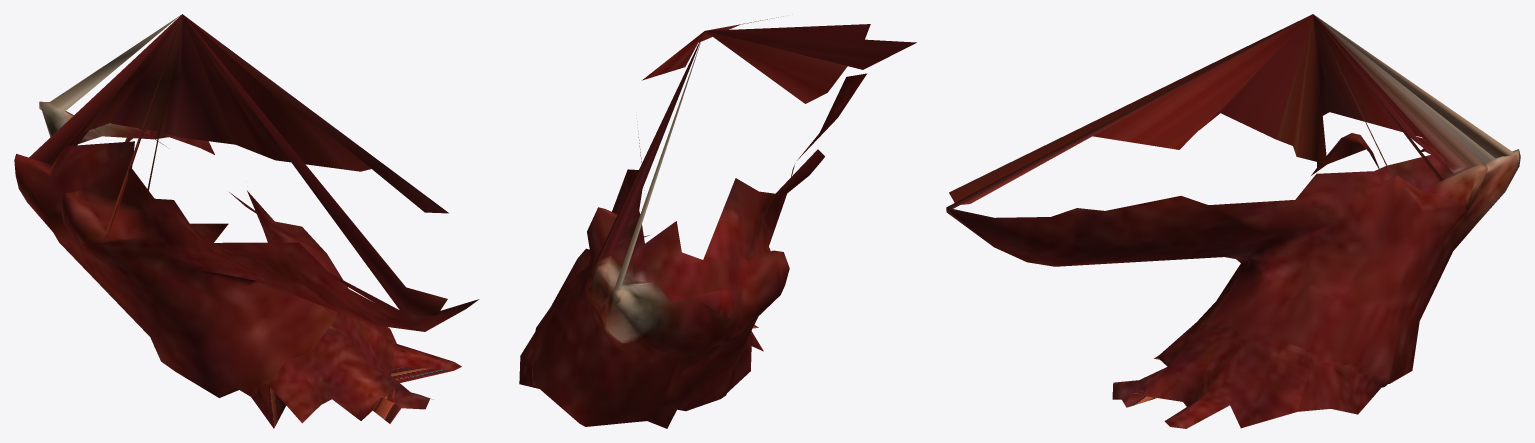
File: dragon_leg_bposx.glb
3 views of the same model, side by side, from view 1: azimuth 30°, elevation 25°; view 2: azimuth 150°, elevation 25°; view 3: azimuth 270°, elevation 25° (orthographic). The views are drawn at different scales.
Bounding box in the file's own units: 2.89 × 3.36 × 5.17.
Materials: 1 (1 with a texture image).
